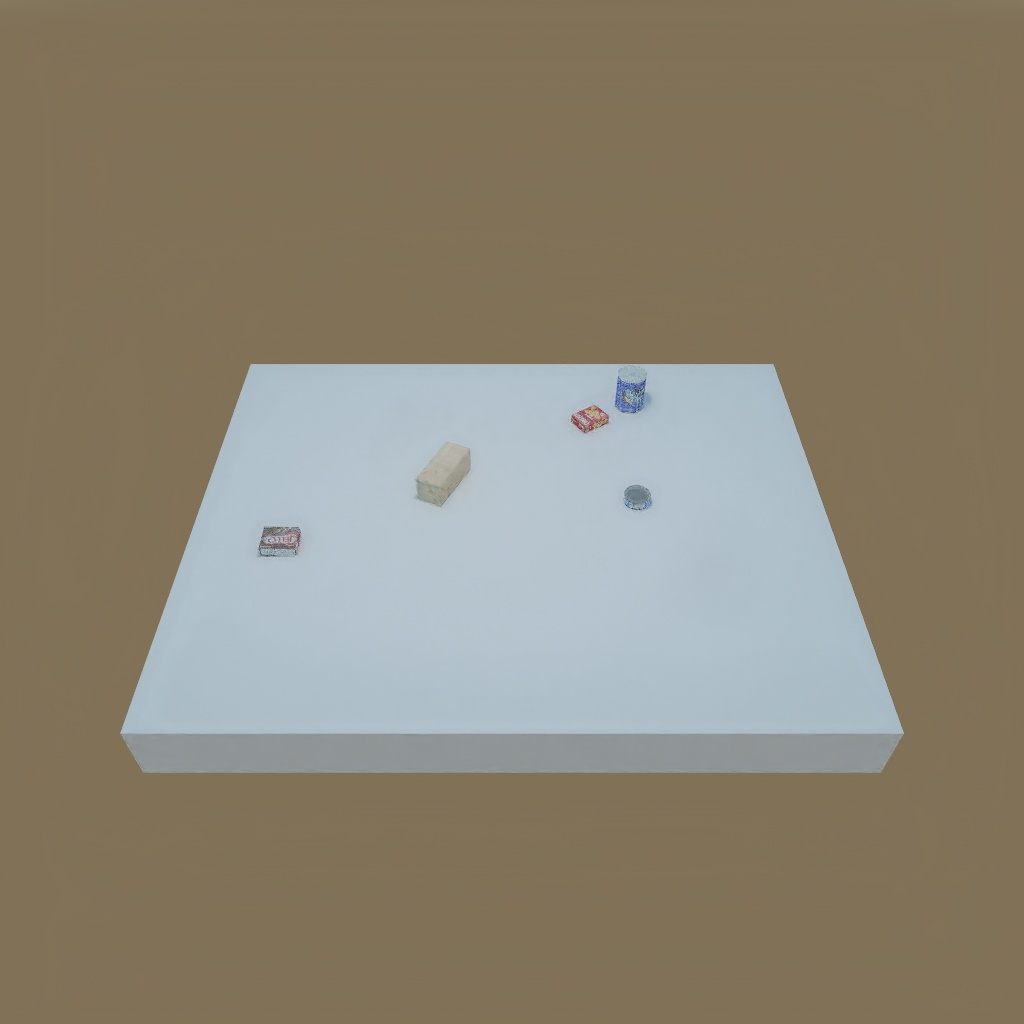master_chef_can: (612, 367, 647, 417)
pudding_box: (258, 519, 305, 555)
wood_block: (415, 444, 475, 506)
